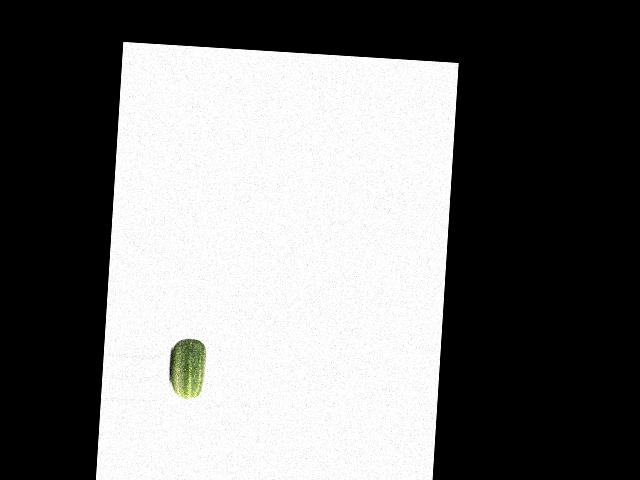cucumber: (168, 337, 206, 399)
